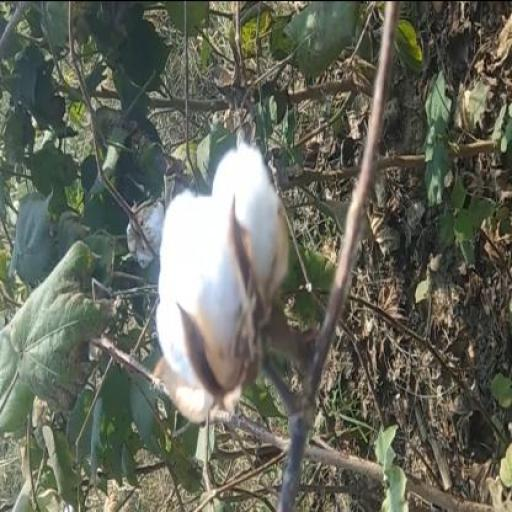cotton_ready: (134, 125, 314, 457)
